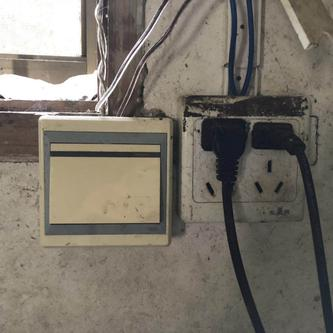switch: (46, 139, 164, 230)
